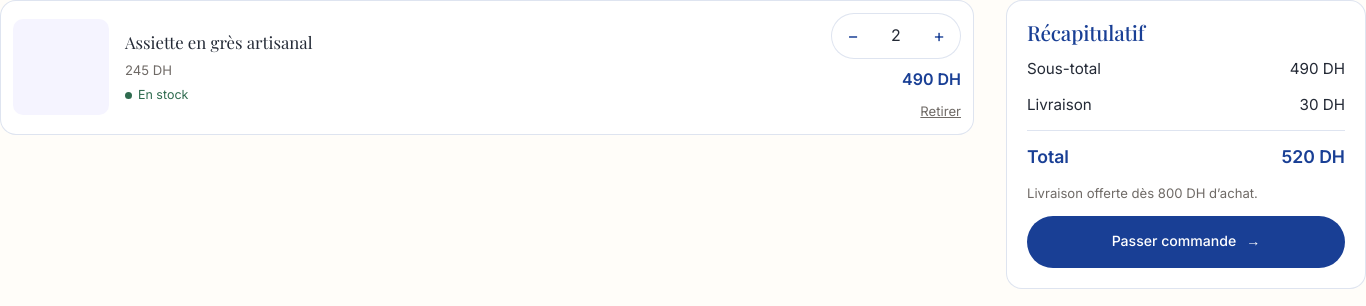
it: cart › updates quantities through the API and displays the server's totals
The image size is (1366, 306).
Expected: the element named "Récapitulatif" shows "520 DH", top-left (1281, 146), bottom-right (1345, 166)
Click the button named "+1": (939, 36) top-left (918, 14), bottom-right (960, 58)
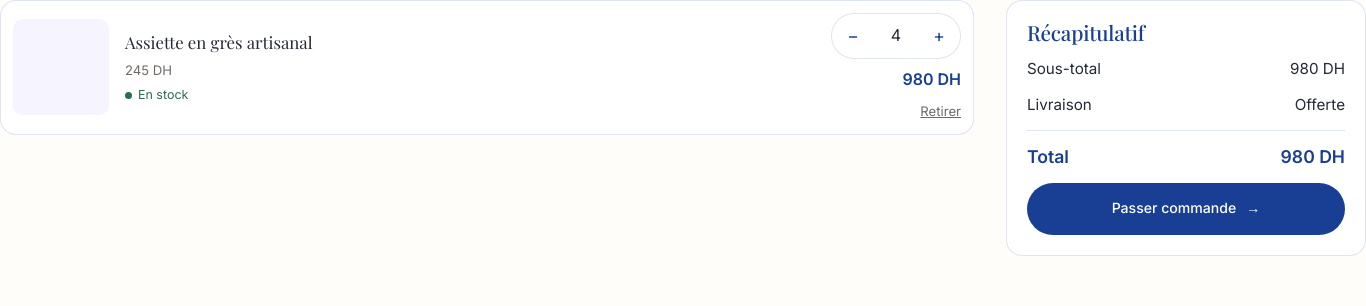
Expected: the element named "Récapitulatif" shows "Offerte", top-left (1295, 95), bottom-right (1345, 114)
Expected: the element named "Récapitulatif" shows "980 DH", top-left (1290, 59), bottom-right (1345, 78)
